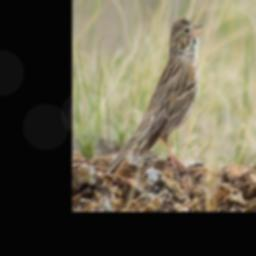Sparrow: (100, 10, 209, 188)
